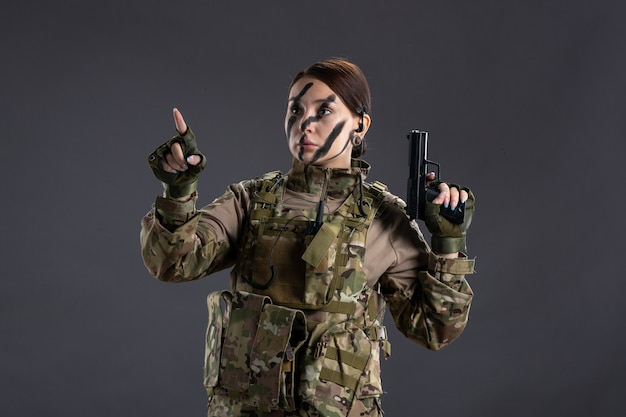gun: (404, 128, 466, 226)
